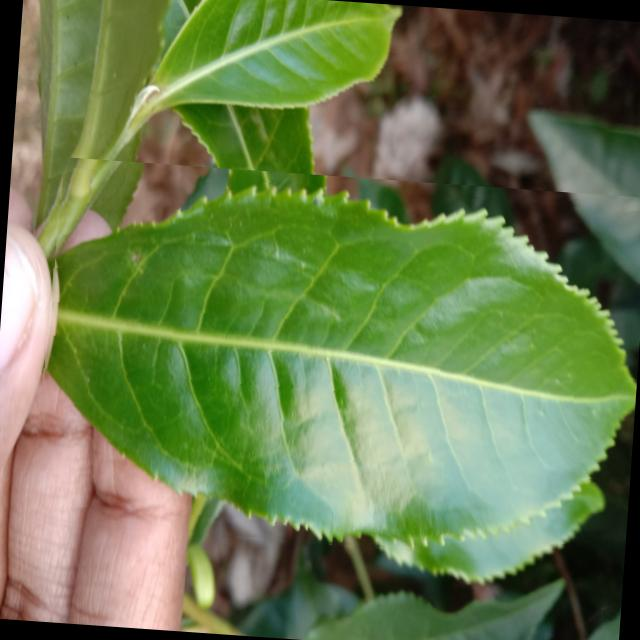Category C(4-7 days): (27, 156, 640, 566)
